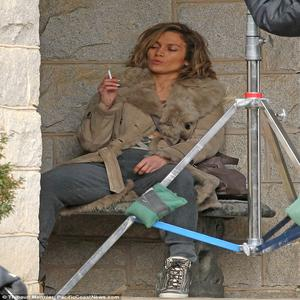cigarette: (108, 70, 113, 86)
